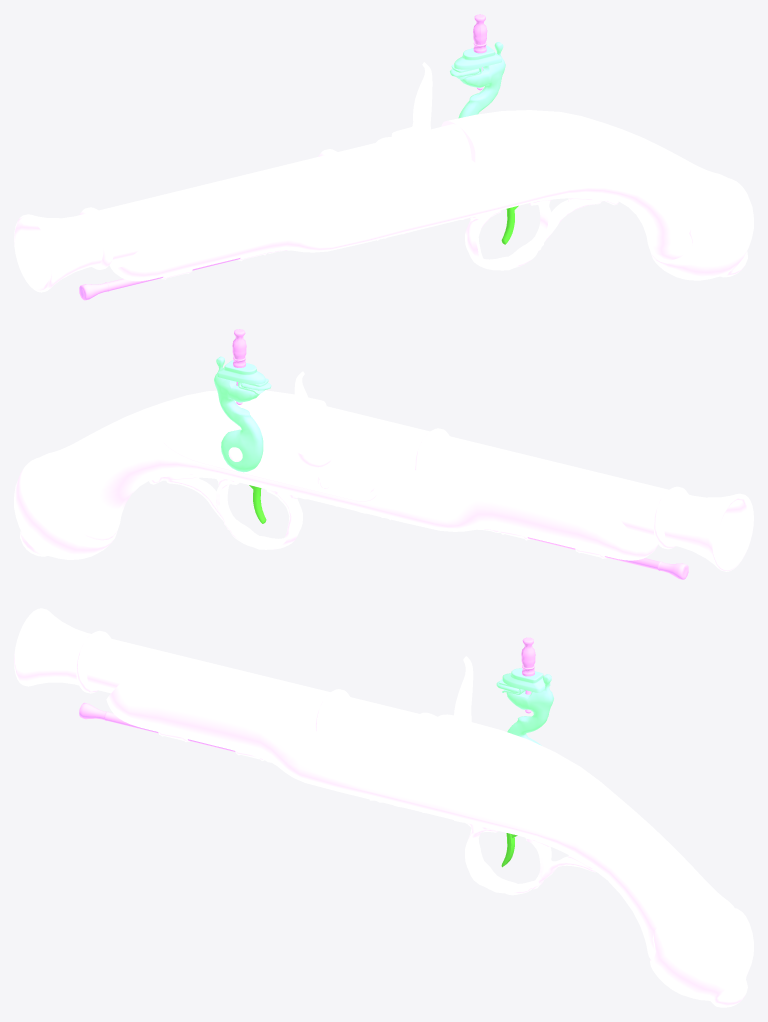
The model's file is Pistols_Brass.fbx.
3 views of the same model, one above another, from view 1: azimuth 30°, elevation 25°; view 2: azimuth 150°, elevation 25°; view 3: azimuth 330°, elevation 25° (orthographic).
Parts seen in each view (by area): view 1: 010-0-10, 014-0-14, 013-0-13, 011-0-11, 015-0-15; view 2: 010-0-10, 014-0-14, 013-0-13, 011-0-11, 015-0-15; view 3: 010-0-10, 014-0-14, 013-0-13, 011-0-11.
Part boxes in pixels (left/top/right/bottom): 010-0-10: left=14, top=110, right=753, bottom=292; 014-0-14: left=450, top=42, right=505, bottom=118; 013-0-13: left=376, top=62, right=432, bottom=142; 011-0-11: left=79, top=258, right=240, bottom=300; 015-0-15: left=473, top=14, right=487, bottom=90; 010-0-10: left=14, top=390, right=753, bottom=571; 014-0-14: left=214, top=356, right=271, bottom=472; 013-0-13: left=294, top=371, right=362, bottom=471; 011-0-11: left=527, top=537, right=688, bottom=579; 015-0-15: left=232, top=329, right=246, bottom=404; 010-0-10: left=14, top=608, right=753, bottom=1007; 014-0-14: left=496, top=668, right=553, bottom=745; 013-0-13: left=420, top=656, right=473, bottom=723; 011-0-11: left=79, top=702, right=235, bottom=751.
Bounding box in the file's own units: 289 × 2198 × 865.
